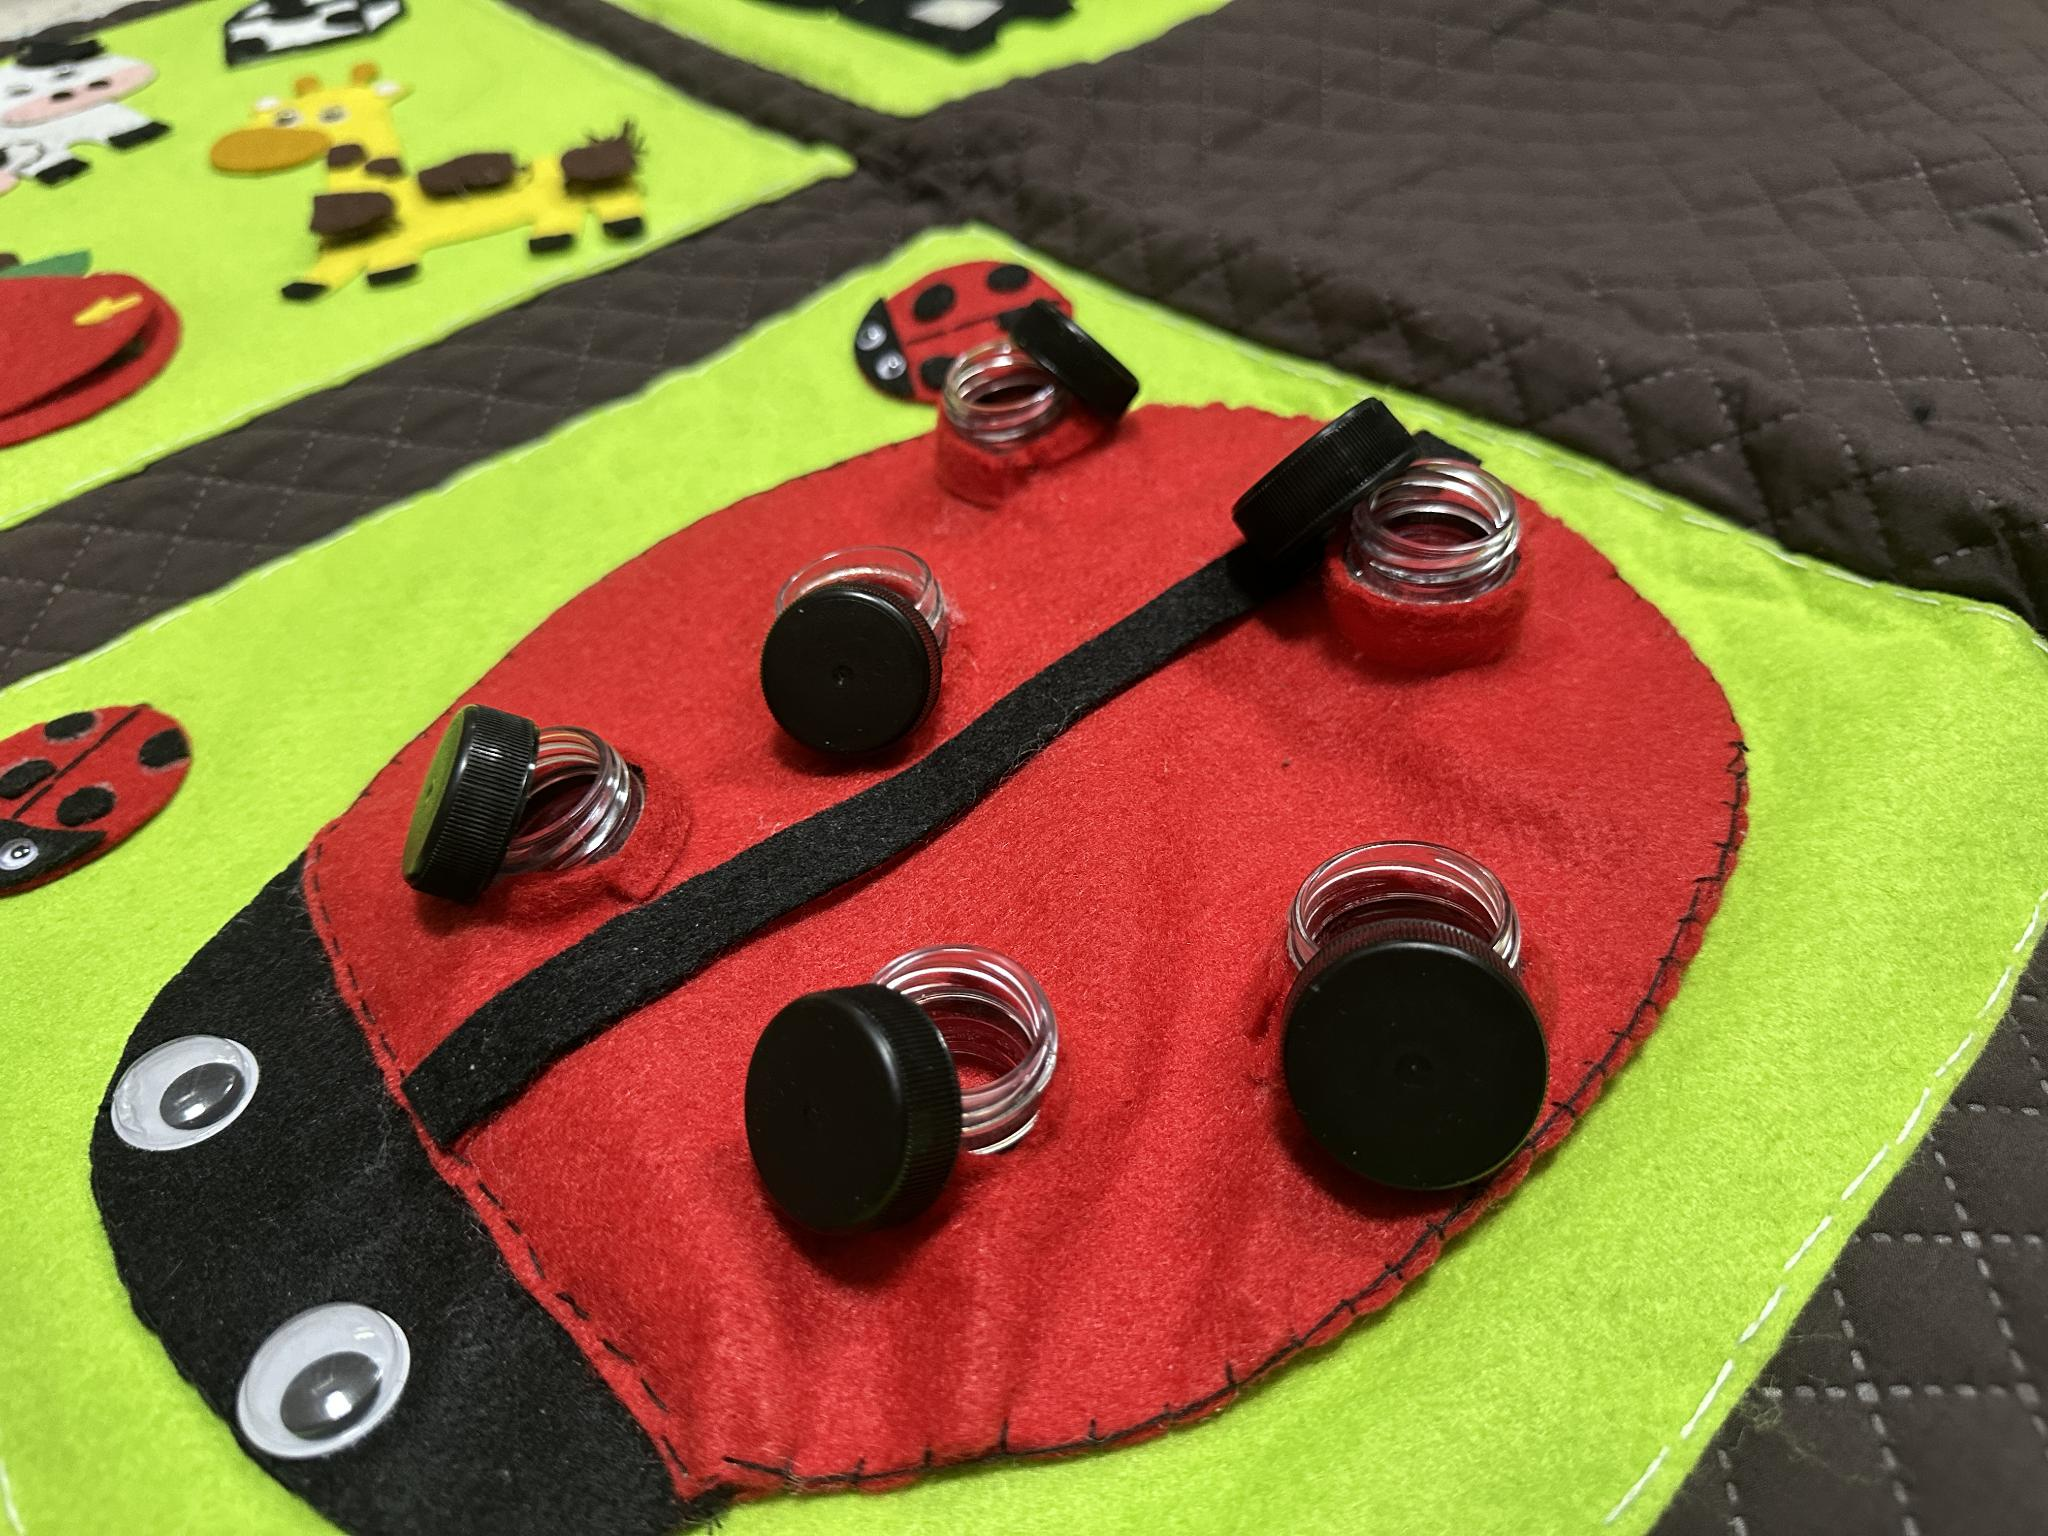cap_ng: (1245, 807, 1569, 1228), (719, 934, 1090, 1276), (1214, 381, 1548, 682), (374, 697, 711, 942), (729, 528, 1027, 791), (913, 282, 1171, 520)
